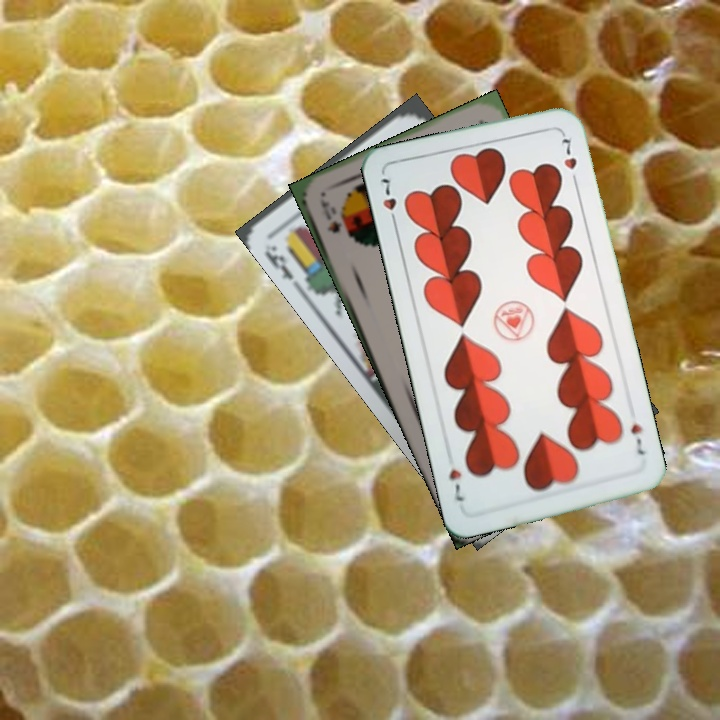EK: (260, 247, 296, 283)
H7: (376, 174, 400, 230), (627, 419, 650, 458)
SO: (316, 197, 345, 236)
